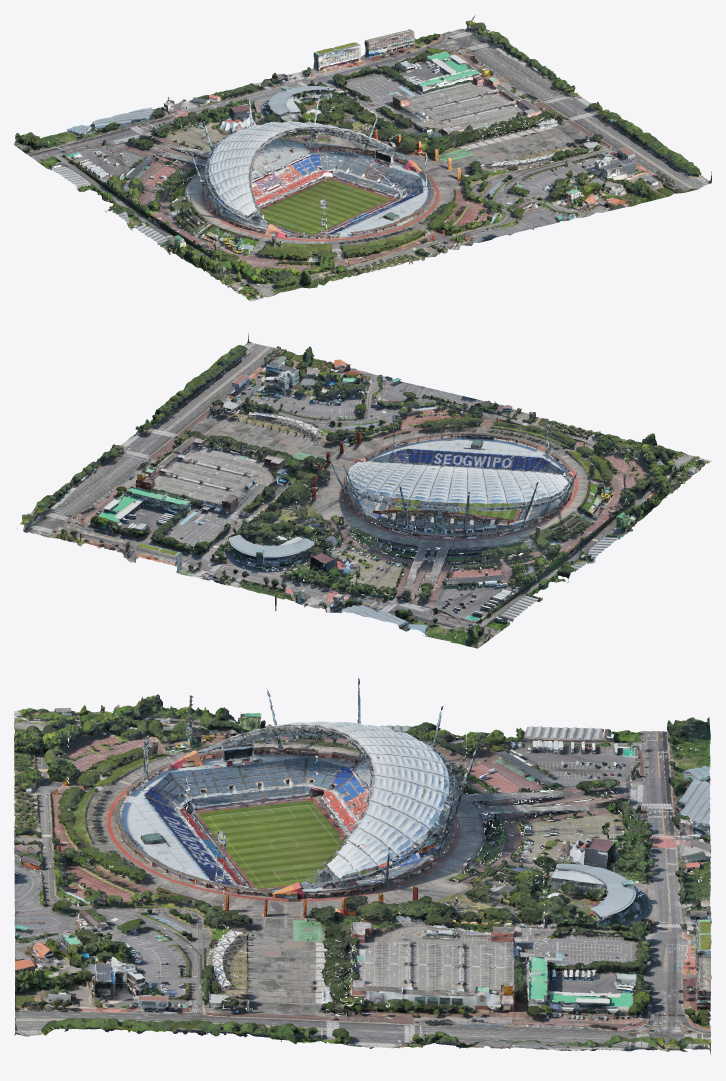
The model's file is jeju_world_cup_stadium.glb.
3 renders of one model, top to bottom at view 1: azimuth 30°, elevation 25°; view 2: azimuth 150°, elevation 25°; view 3: azimuth 270°, elevation 25°, orthographic. The views are drawn at different scales.
Size of the model in its own units: 509 by 81.41 by 449.
6 materials, 6 textured.
